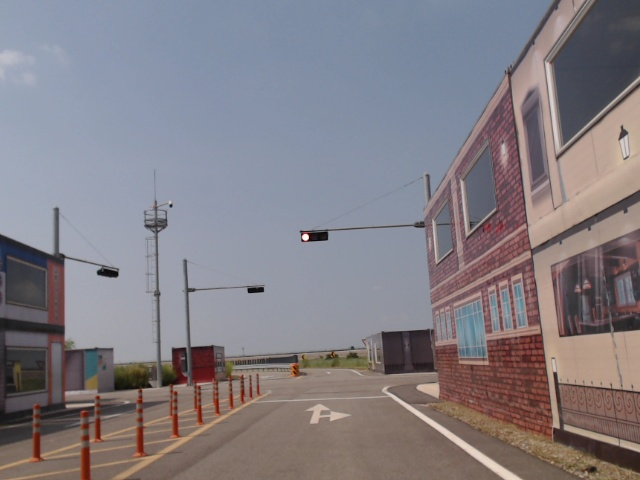red_3: (301, 231, 328, 242)
